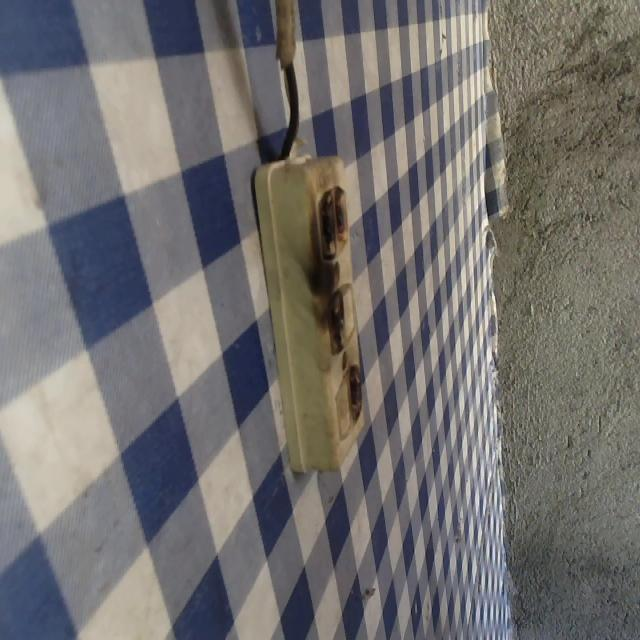-: (306, 182, 357, 266), (339, 359, 374, 432), (319, 280, 347, 360)
